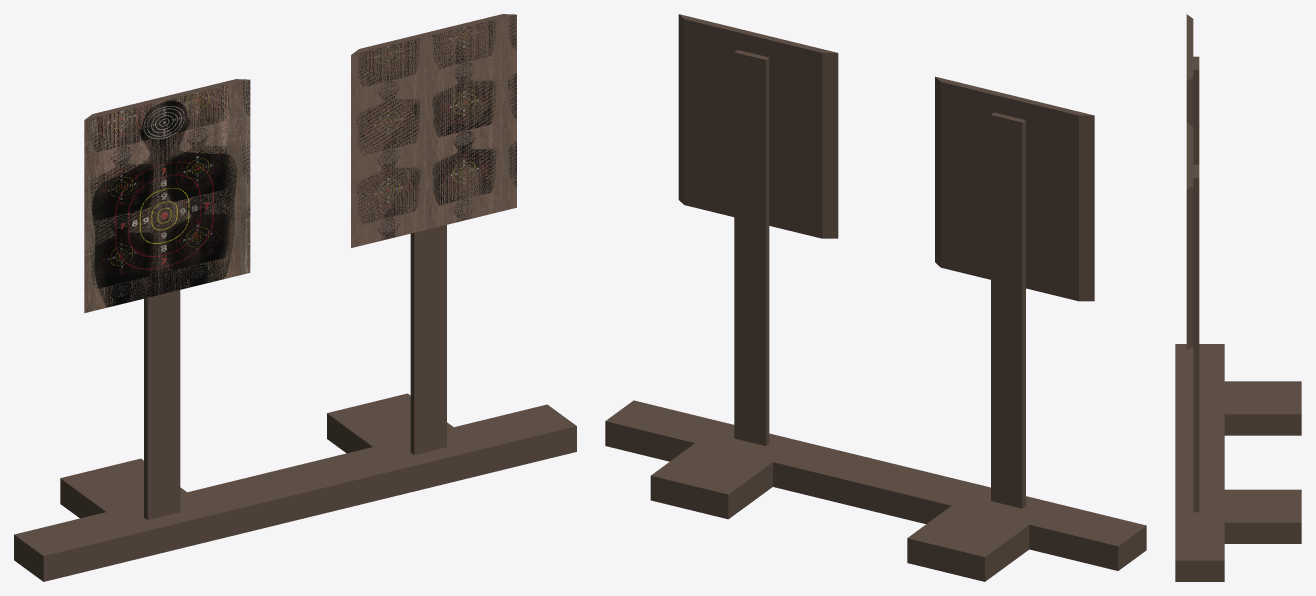
The model's file is Target.fbx.
The picture shows the model from 3 angles, left to right: view 1: azimuth 30°, elevation 25°; view 2: azimuth 150°, elevation 25°; view 3: azimuth 270°, elevation 25°; orthographic projection. The views are drawn at different scales.
Visible parts, largest first — view 1: Target, Target1; view 2: Target, Target1; view 3: Target1, Target.
Part boxes in pixels (bbox=[...]): Target: bbox=[14, 79, 310, 581]; Target1: bbox=[281, 14, 576, 516]; Target: bbox=[861, 76, 1146, 581]; Target1: bbox=[605, 14, 889, 519]; Target1: bbox=[1175, 122, 1301, 581]; Target: bbox=[1175, 14, 1301, 452].
Size of the model in its own units: 16.25 by 12.97 by 4.
